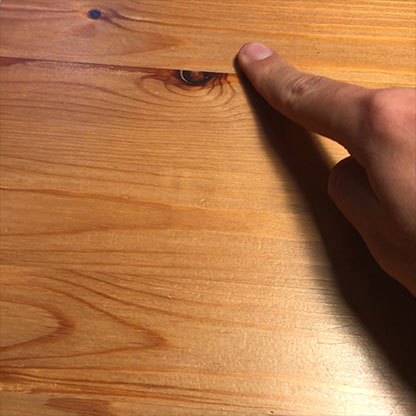fingertip: (231, 32, 280, 70)
